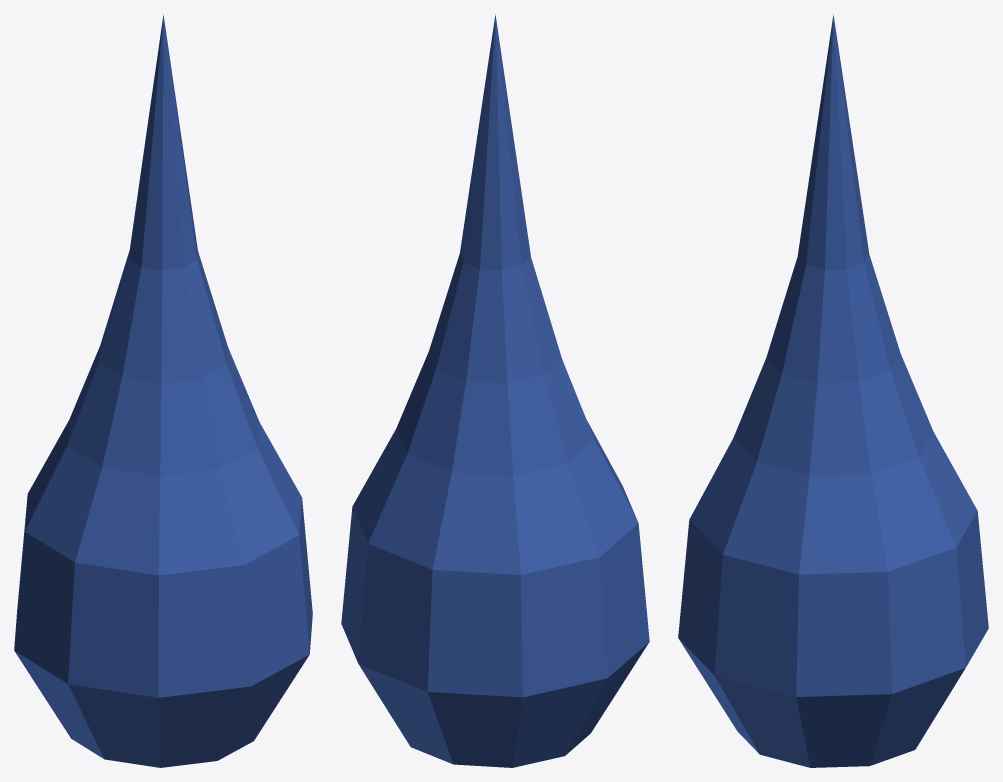
File: CollectibleWater (1).fbx
3 renders of one model, left to right at view 1: azimuth 30°, elevation 25°; view 2: azimuth 150°, elevation 25°; view 3: azimuth 270°, elevation 25°, orthographic.
Visible parts, largest first — view 1: Fx_Fbx_WaterPoint_01; view 2: Fx_Fbx_WaterPoint_01; view 3: Fx_Fbx_WaterPoint_01.
Part boxes in pixels (x1,y1,x2,y2): Fx_Fbx_WaterPoint_01: (14,14,312,767); Fx_Fbx_WaterPoint_01: (341,14,649,767); Fx_Fbx_WaterPoint_01: (678,14,988,767).
Bounding box in the file's own units: 0.277 × 0.7587 × 0.2845.
